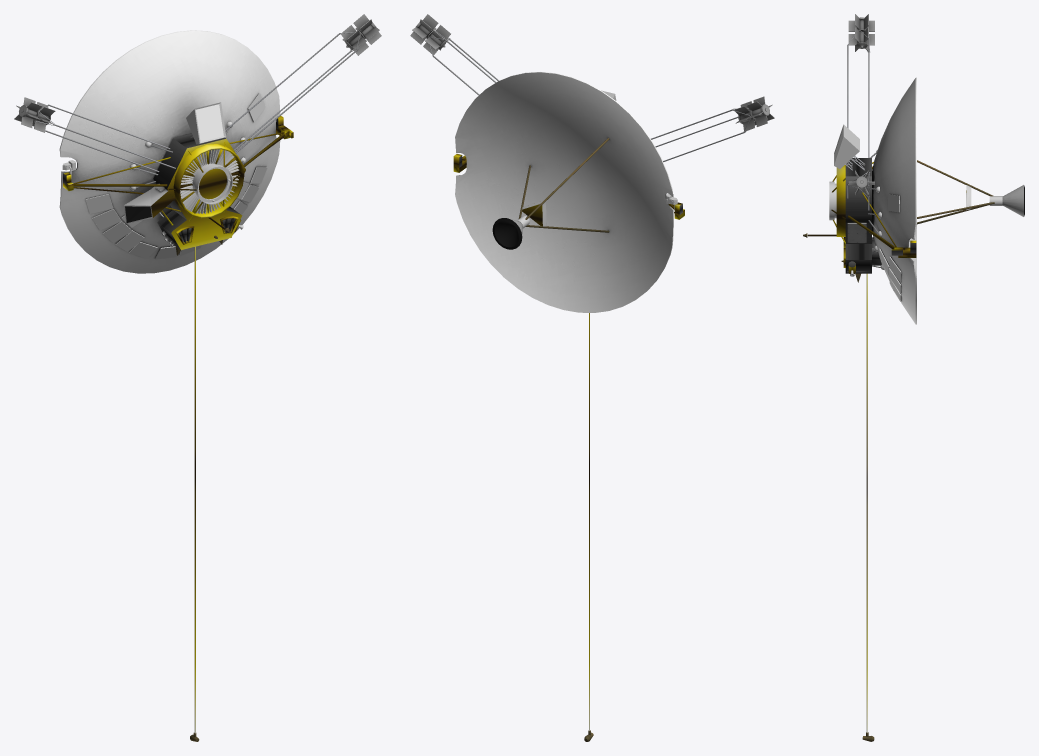
The model's file is 07-pioneer.glb.
3 renders of one model, left to right at view 1: azimuth 30°, elevation 25°; view 2: azimuth 150°, elevation 25°; view 3: azimuth 270°, elevation 25°, orthographic. The views are drawn at different scales.
Visible parts, largest first — view 1: AO_dish, Foil_gold, Silver, Norm_silver, Tex_02, Foil_silver, AO_rtg, Foil_trans; view 2: AO_dish, AO_rtg, Tex_02, Foil_gold, Tex_black; view 3: AO_dish, Foil_silver, Foil_gold, Tex_02, Silver, AO_rtg, Norm_silver, Tex_01.
Boxes of the visible parts, x1,y1,x2,y2 form: AO_dish: (59, 30, 280, 273); Foil_gold: (63, 116, 293, 733); Silver: (62, 93, 266, 258); Norm_silver: (85, 94, 267, 259); Tex_02: (34, 32, 360, 741); Foil_silver: (63, 118, 278, 249); AO_rtg: (14, 14, 381, 132); Foil_trans: (196, 104, 223, 141); AO_dish: (455, 72, 673, 312); AO_rtg: (410, 14, 774, 131); Tex_02: (428, 30, 755, 741); Foil_gold: (453, 154, 684, 730); Tex_black: (492, 218, 522, 249); AO_dish: (872, 77, 1023, 324); Foil_silver: (845, 158, 916, 273); Foil_gold: (807, 162, 966, 732); Tex_02: (803, 30, 994, 741); Silver: (829, 124, 1002, 301); AO_rtg: (848, 14, 874, 195); Norm_silver: (879, 194, 900, 301); Tex_01: (847, 223, 866, 242).
Bounding box in the file's own units: 4.52 × 8.25 × 2.54.
11 materials, 8 textured.
